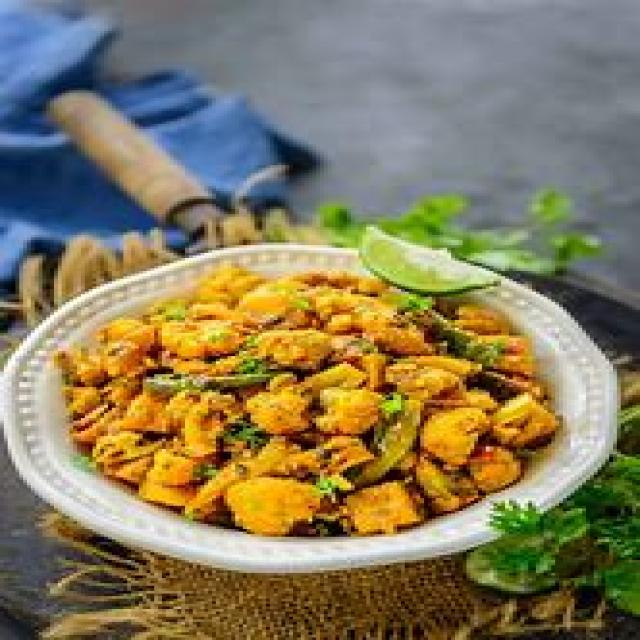Aloo Gobi: (84, 276, 531, 541)
